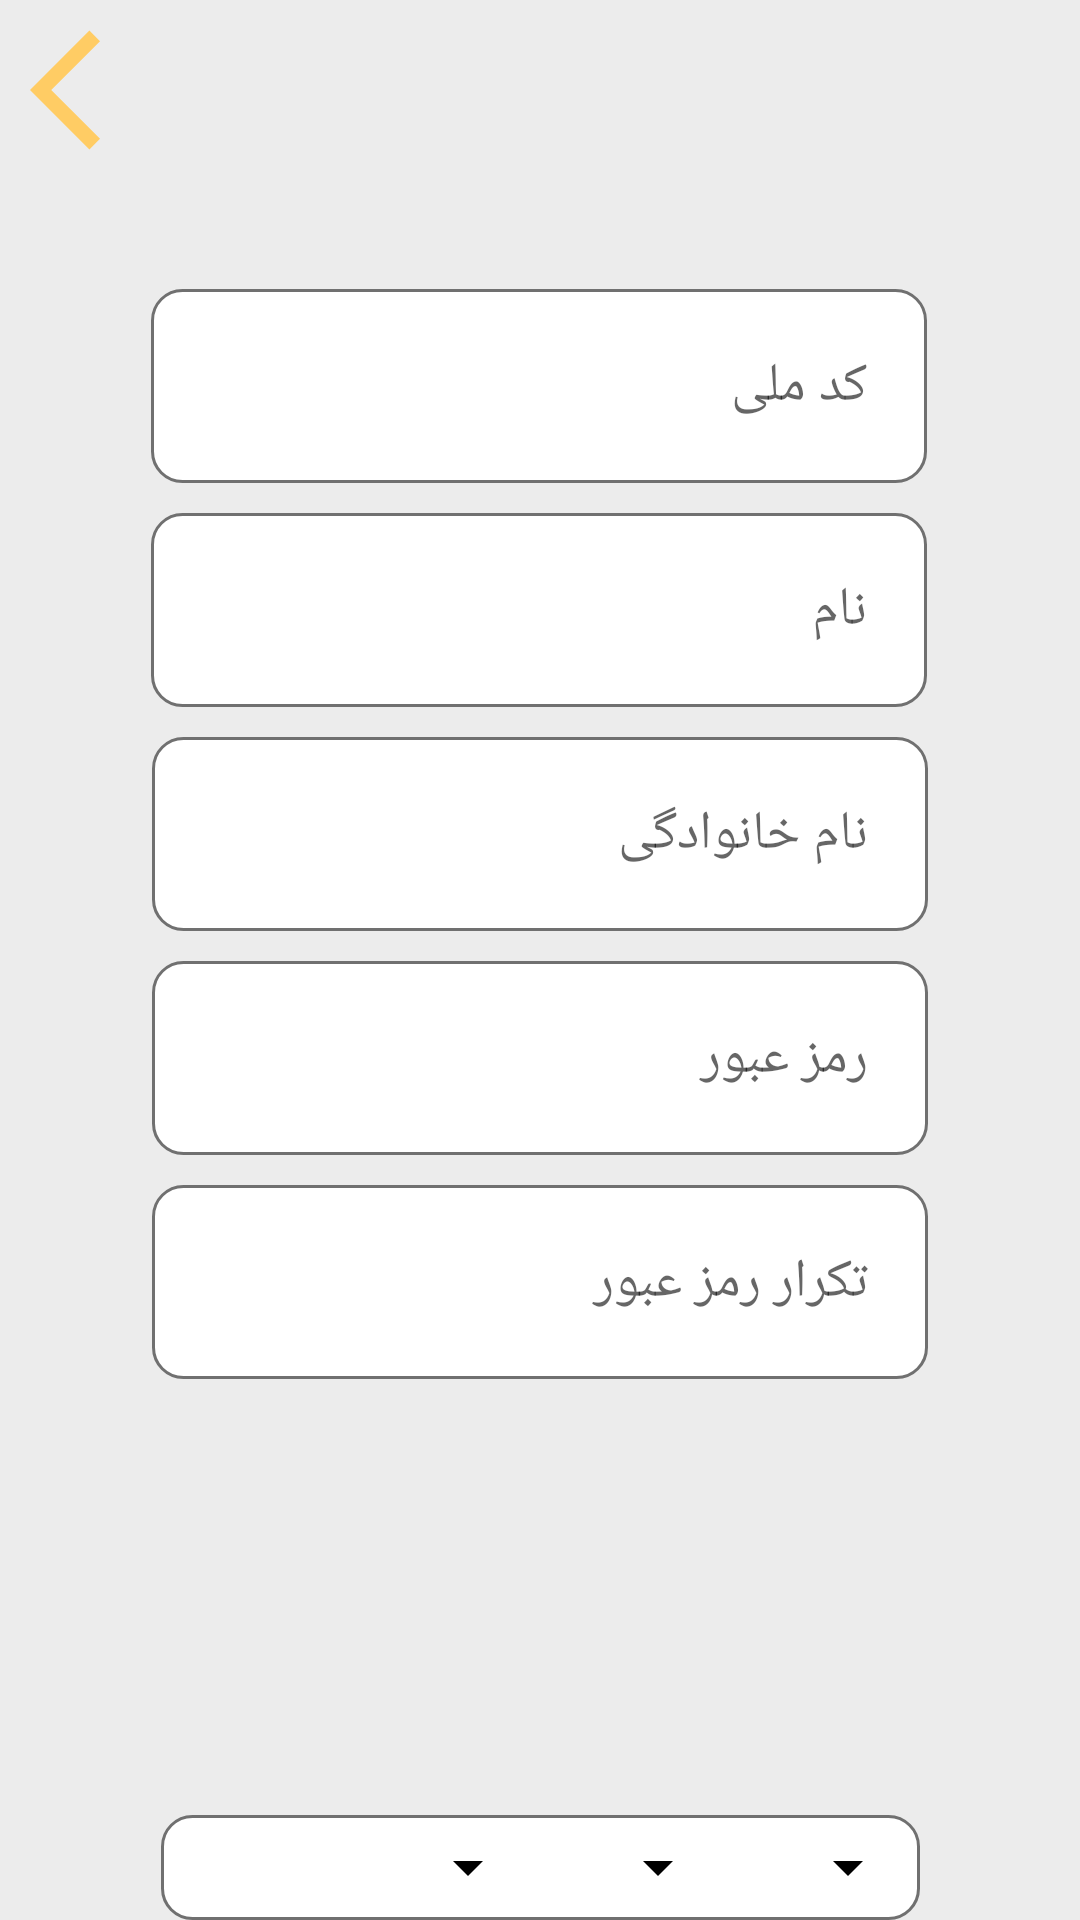

Icons on this 1080 x 1920 Android screen, each with its box as {"x1": x1, "y1": y1, "x2": x2, "y2": y2}:
arrow back: {"x1": 30, "y1": 30, "x2": 100, "y2": 150}
